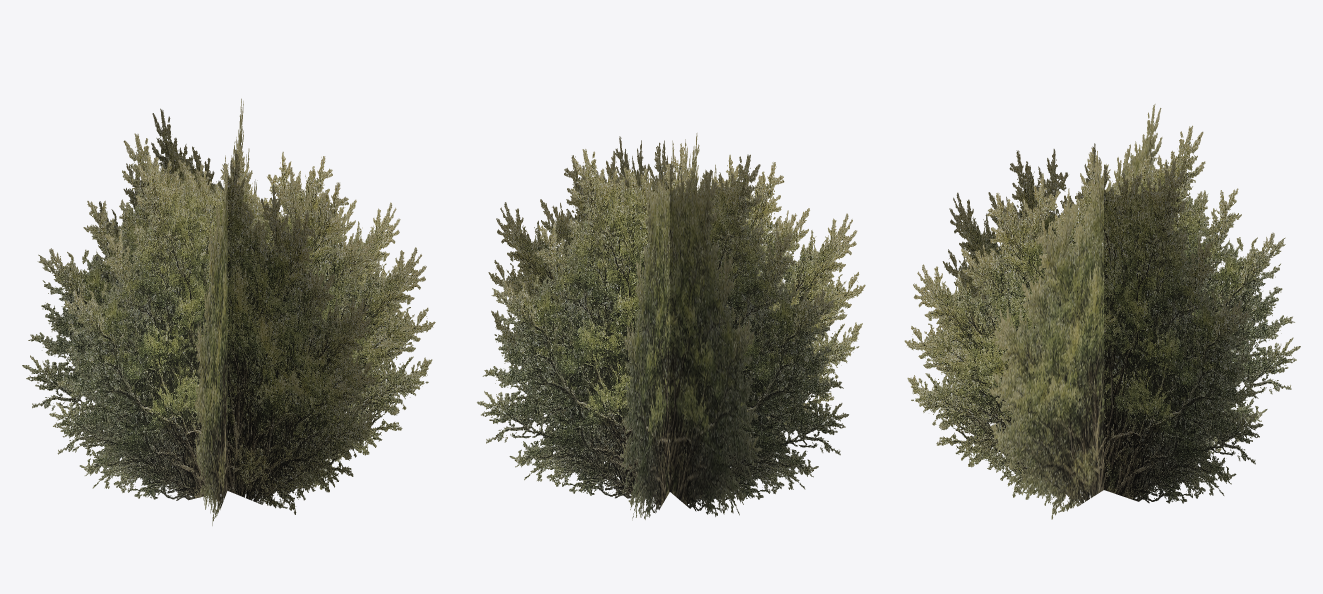
Rendered from GRASS1.fbx.
The picture shows the model from 3 angles, left to right: view 1: azimuth 30°, elevation 25°; view 2: azimuth 150°, elevation 25°; view 3: azimuth 270°, elevation 25°; orthographic projection.
Parts seen in each view (by area): view 1: Plane; view 2: Plane; view 3: Plane.
Part boxes in pixels (x1,y1,x2,y2): Plane: (22,98,435,525); Plane: (477,133,865,520); Plane: (904,104,1300,519).
Size of the model in its own units: 200 by 200 by 192.
Materials: 1 (1 with a texture image).
